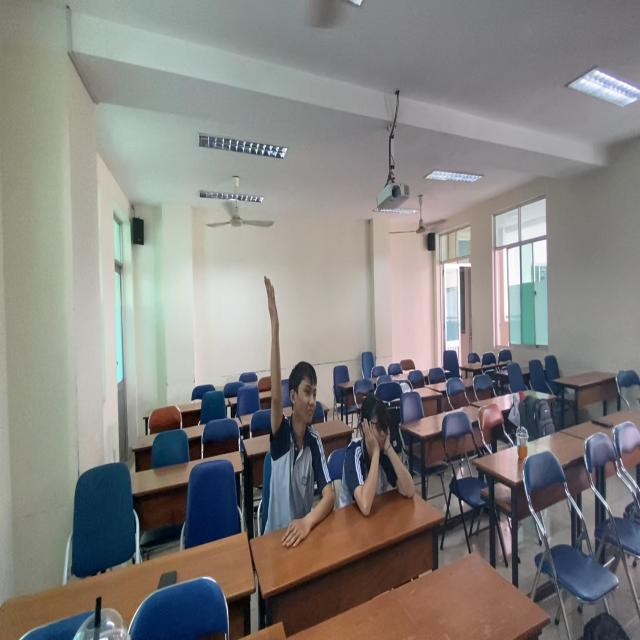raise_hand: (259, 271, 335, 529)
